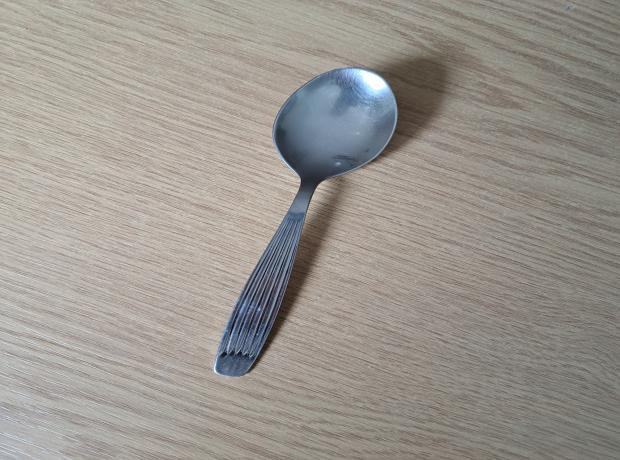metal: (213, 68, 394, 377)
